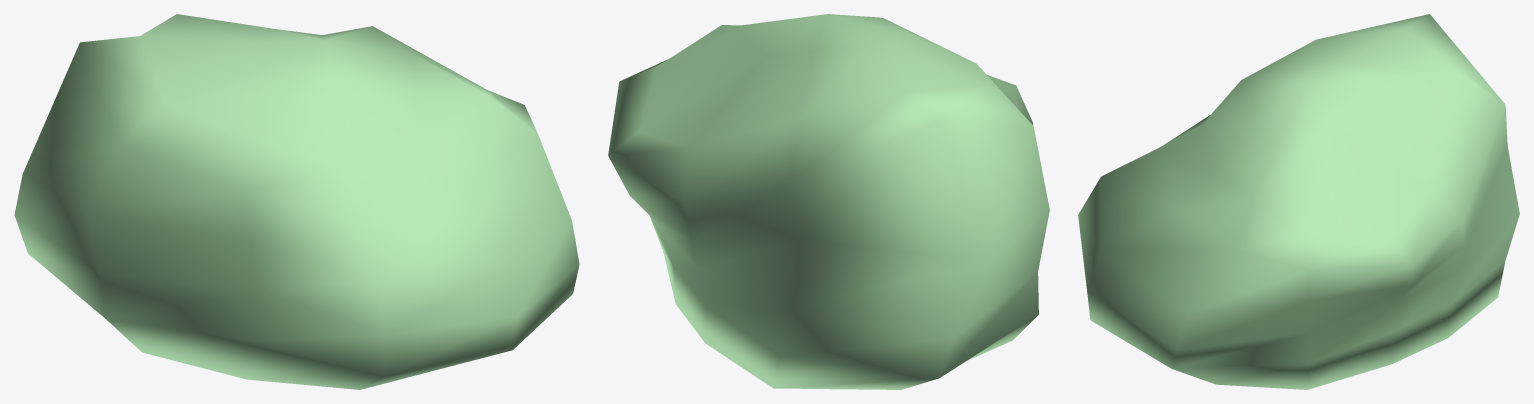
The model's file is Rock5_Large.fbx.
3 renders of one model, left to right at view 1: azimuth 30°, elevation 25°; view 2: azimuth 150°, elevation 25°; view 3: azimuth 270°, elevation 25°, orthographic. The views are drawn at different scales.
Visible parts, largest first — view 1: Rock5_Large; view 2: Rock5_Large; view 3: Rock5_Large.
Boxes of the visible parts, x1,y1,x2,y2 form: Rock5_Large: [14, 14, 579, 389]; Rock5_Large: [608, 14, 1049, 389]; Rock5_Large: [1078, 14, 1519, 389].
Size of the model in its own units: 1038 by 642 by 1040.
